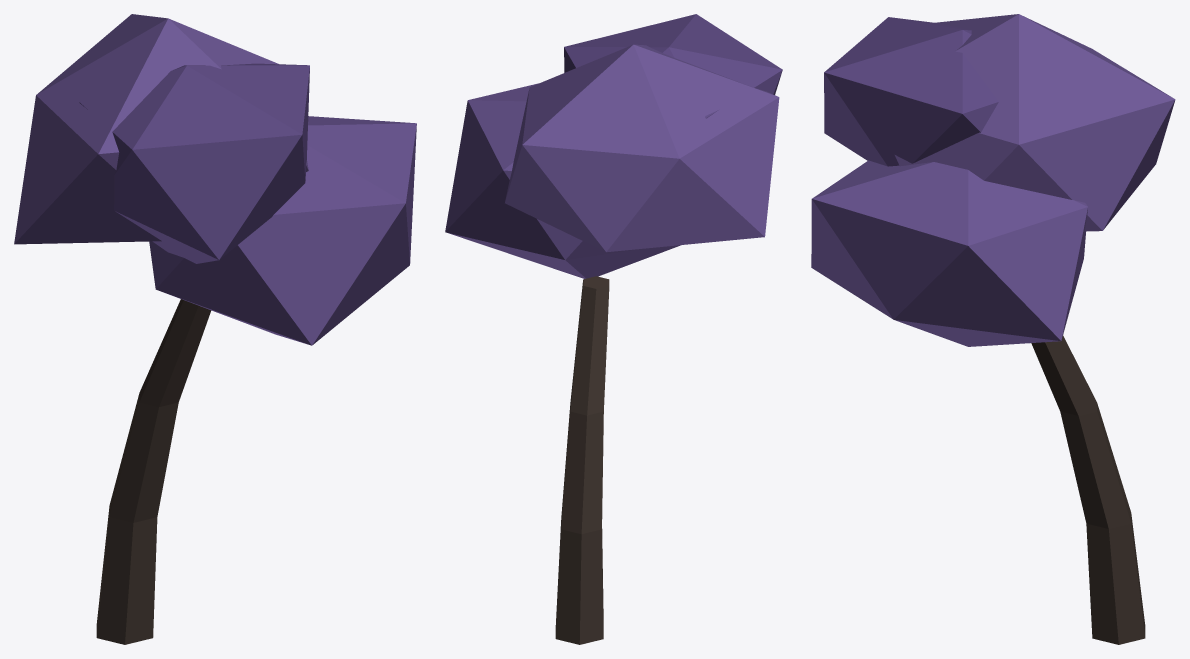
The model's file is tree_duskyew.glb.
The picture shows the model from 3 angles, left to right: view 1: azimuth 30°, elevation 25°; view 2: azimuth 150°, elevation 25°; view 3: azimuth 270°, elevation 25°; orthographic projection. The views are drawn at different scales.
Visible parts, largest first — view 1: tree_duskyew; view 2: tree_duskyew; view 3: tree_duskyew.
Part boxes in pixels (x1,y1,x2,y2): tree_duskyew: [14, 14, 416, 644]; tree_duskyew: [445, 14, 782, 644]; tree_duskyew: [811, 14, 1175, 644].
Bounding box in the file's own units: 2.93 × 4.87 × 2.62.
Materials: 1 (1 with a texture image).
